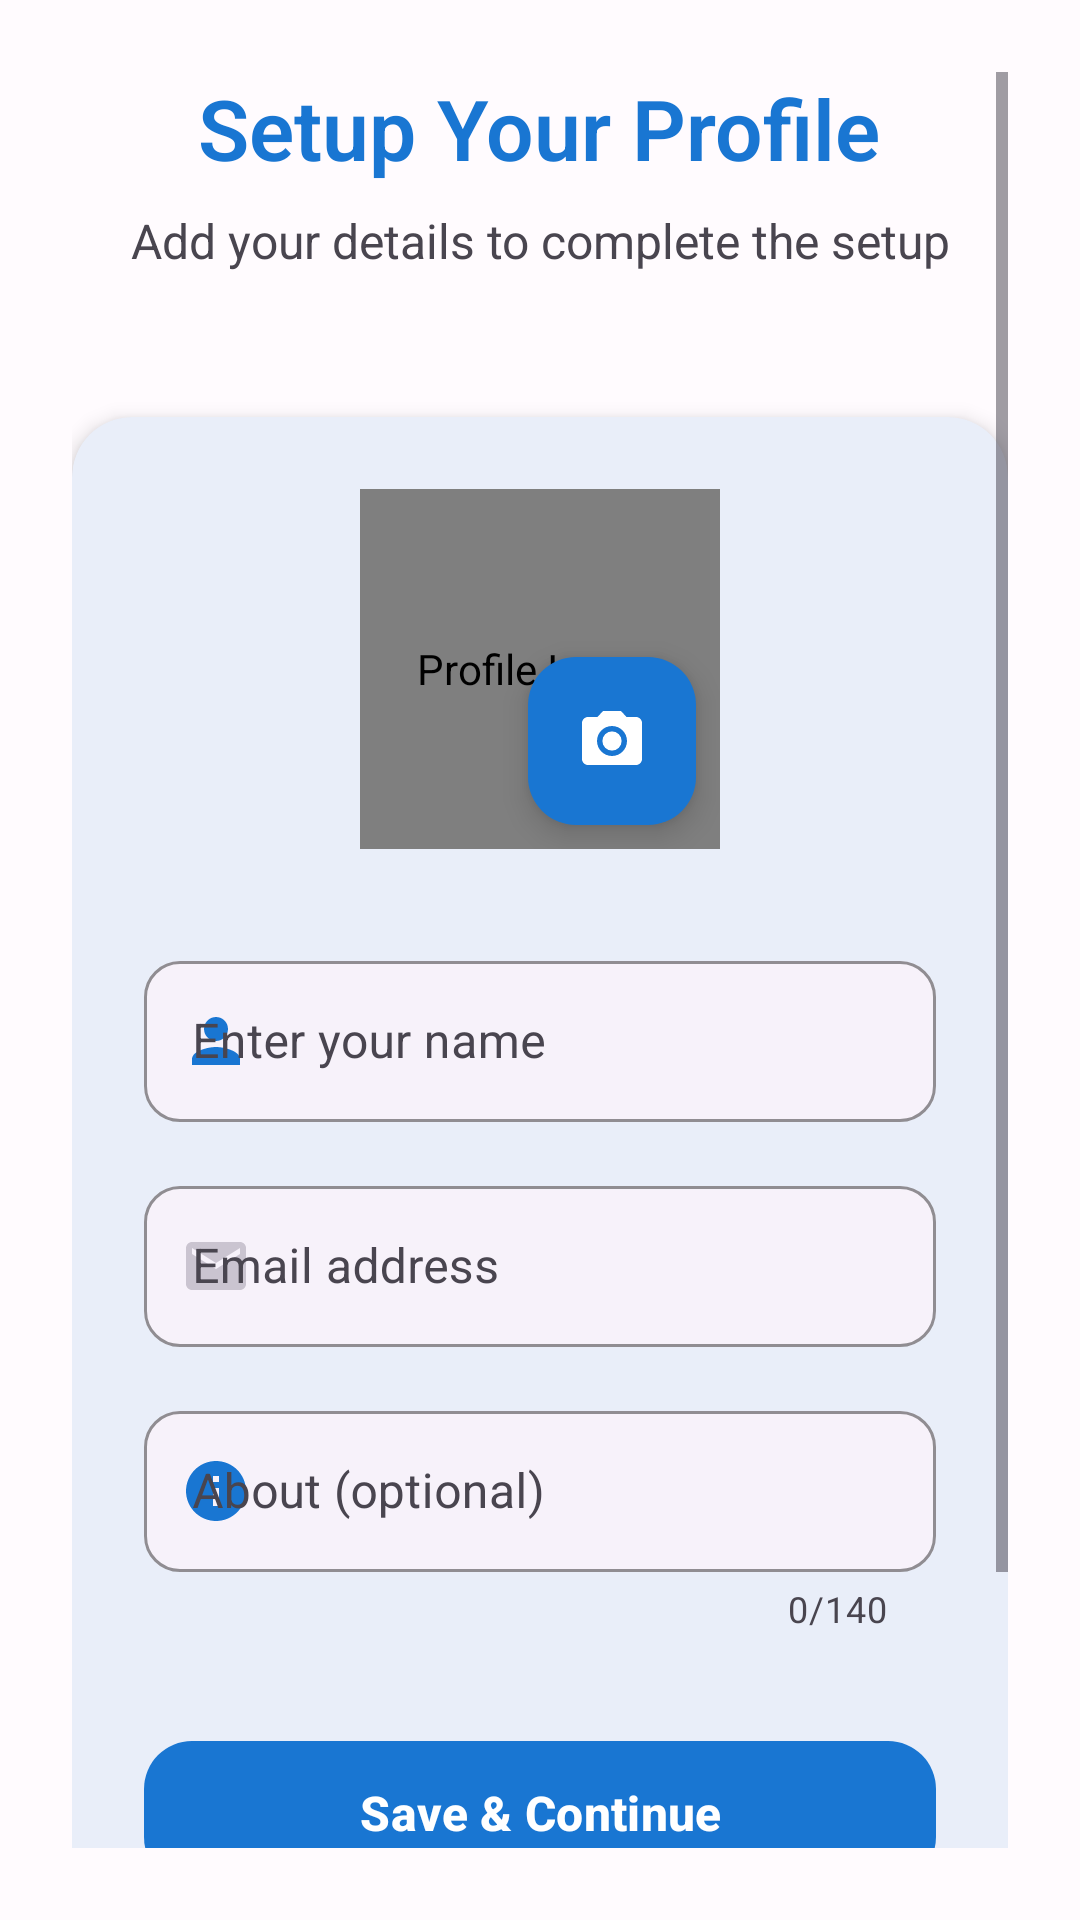

Icons on this 1080 x 1920 Android screen, each with its box as (x1, y1, x2, y2):
camera: (528, 657, 696, 825)
